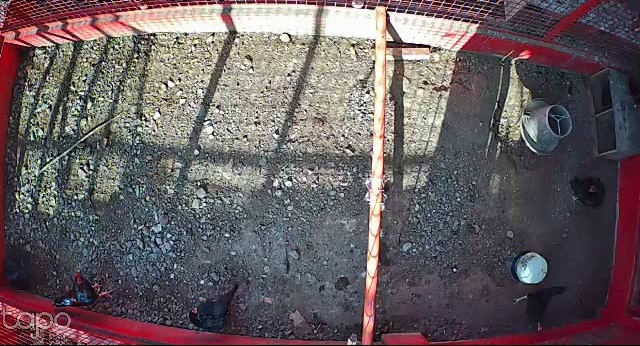Chicken: (511, 282, 568, 335), (188, 284, 241, 332), (568, 170, 606, 212)
Drinker: (509, 250, 549, 285)
Feeder: (519, 98, 574, 155)
Rooster: (46, 272, 117, 309)
